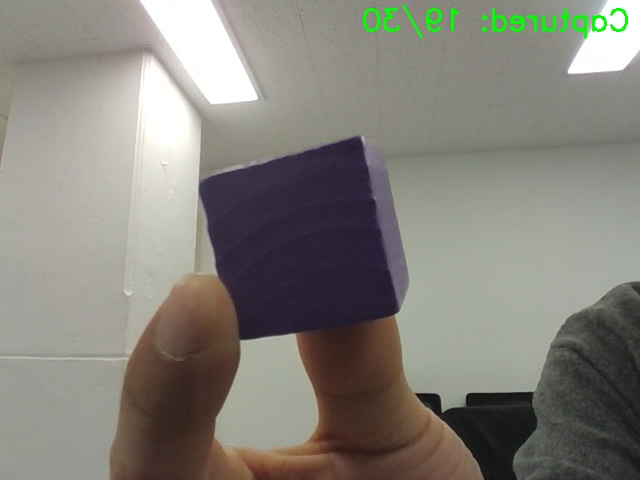Normal: (187, 167, 389, 363)
